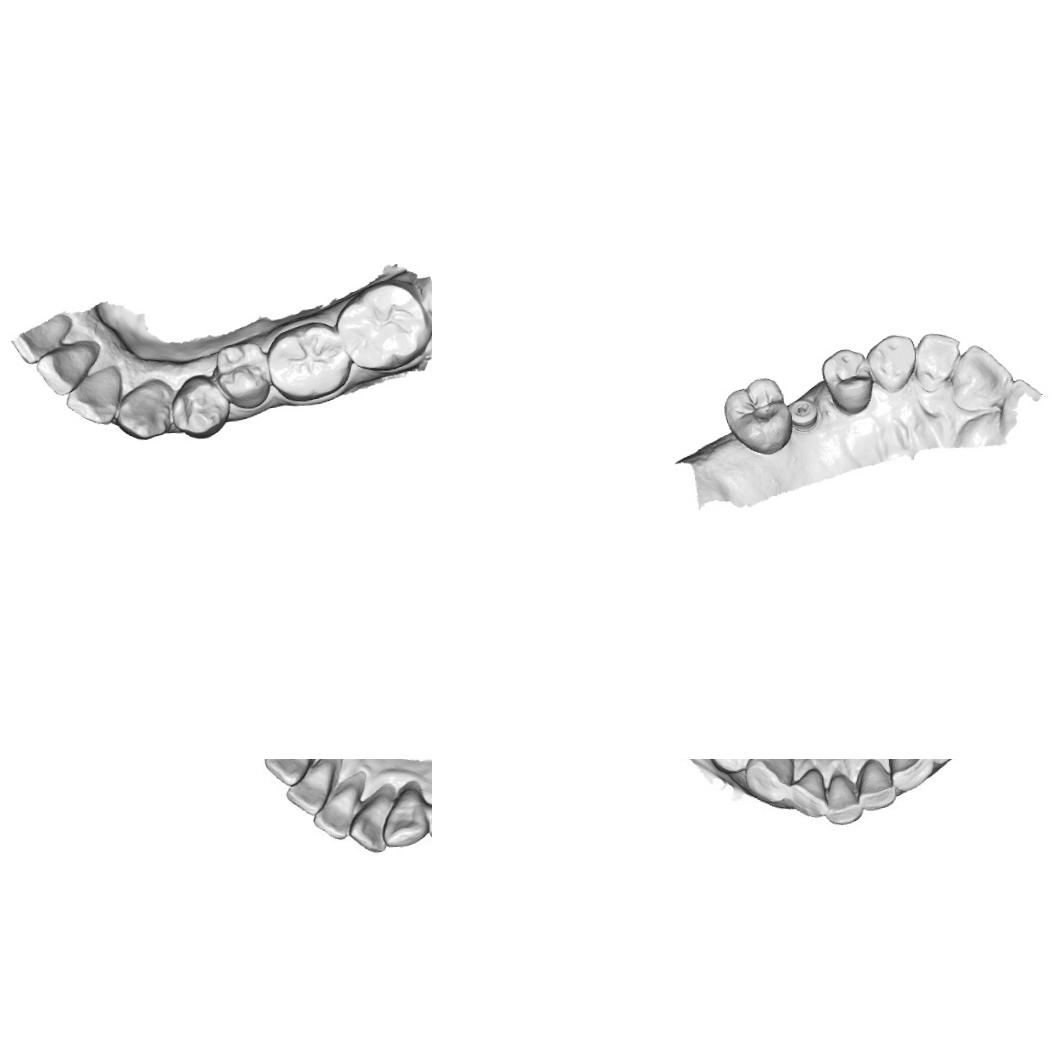canine: (111, 375, 176, 445), (376, 782, 426, 856), (863, 331, 919, 396), (746, 759, 794, 797)
implant_minus: (786, 398, 821, 432)
incisor: (946, 342, 1015, 413), (60, 362, 125, 432), (34, 337, 102, 398), (7, 312, 77, 365), (282, 760, 343, 819), (345, 794, 398, 858), (310, 778, 360, 844), (910, 330, 963, 392), (785, 764, 833, 822), (822, 771, 868, 829), (854, 759, 897, 812), (260, 759, 323, 790), (887, 759, 935, 794)
molar: (332, 276, 432, 374), (263, 317, 349, 402), (720, 374, 794, 458)
premolar: (166, 371, 234, 442), (210, 337, 272, 410), (818, 345, 876, 417), (705, 759, 759, 777)
